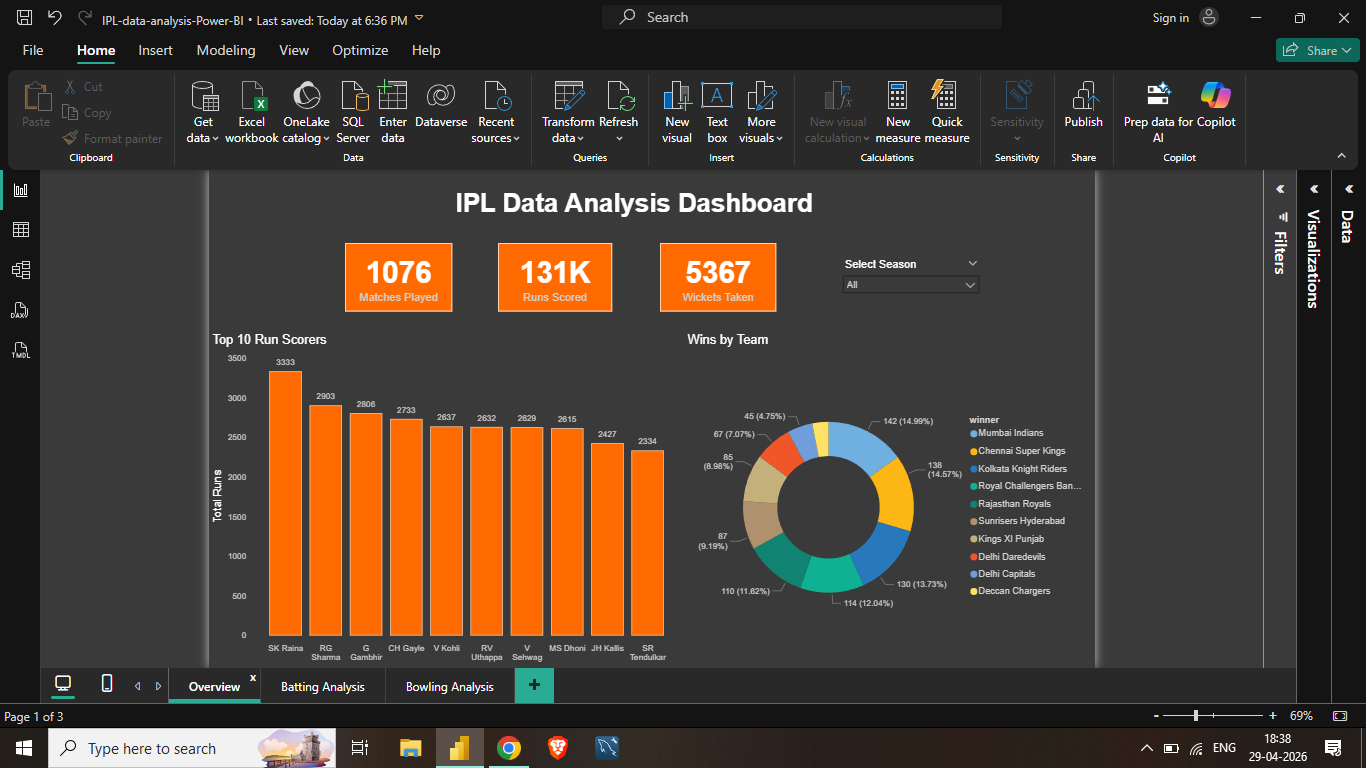

The dashboard page shown, as its layout file describes it:
{"tool":"powerbi","page":{"name":"Overview","canvas":[1280,720],"ordinal":0},"visuals":[{"type":"card","fields":{"Values":["ipl_analysis deliveries.Total Matches"]},"box":[196.8,106,154.7,99.2],"z":0},{"type":"card","fields":{"Values":["ipl_analysis deliveries.Total Wickets"]},"box":[652.6,106,168.2,99.2],"z":1000},{"type":"card","fields":{"Values":["ipl_analysis deliveries.Total Runs"]},"box":[417.1,106,164.8,99.2],"z":2000},{"type":"columnChart","title":"Top 10 Run Scorers","fields":{"Category":["ipl_analysis deliveries.batter"],"Y":["ipl_analysis deliveries.Total Runs"]},"box":[0,234.2,686.7,485.8],"z":3000},{"type":"donutChart","title":"Wins by Team","fields":{"Category":["ipl_analysis matches.winner"],"Y":["ipl_analysis matches.Total Wins"]},"box":[686.7,234.2,592.8,485.8],"z":4000},{"type":"slicer","fields":{"Values":["ipl_analysis matches.season"]},"box":[906.6,122.8,217,67.3],"z":5000},{"type":"textbox","box":[351.3,21.7,534.9,70.8],"z":6000}]}

Visuals, with their boxes on the page's 1280x720 design canvas (x1, y1, x2, y2). These are canvas units, not pixel positions in the 1366x768 screenshot, which may show the page scaled, cropped or inside an application window:
card - ipl_analysis deliveries.Total Matches: {"left": 197, "top": 106, "right": 352, "bottom": 205}
card - ipl_analysis deliveries.Total Wickets: {"left": 653, "top": 106, "right": 821, "bottom": 205}
card - ipl_analysis deliveries.Total Runs: {"left": 417, "top": 106, "right": 582, "bottom": 205}
"Top 10 Run Scorers" columnChart: {"left": 0, "top": 234, "right": 687, "bottom": 720}
"Wins by Team" donutChart: {"left": 687, "top": 234, "right": 1280, "bottom": 720}
slicer - ipl_analysis matches.season: {"left": 907, "top": 123, "right": 1124, "bottom": 190}
textbox: {"left": 351, "top": 22, "right": 886, "bottom": 92}
